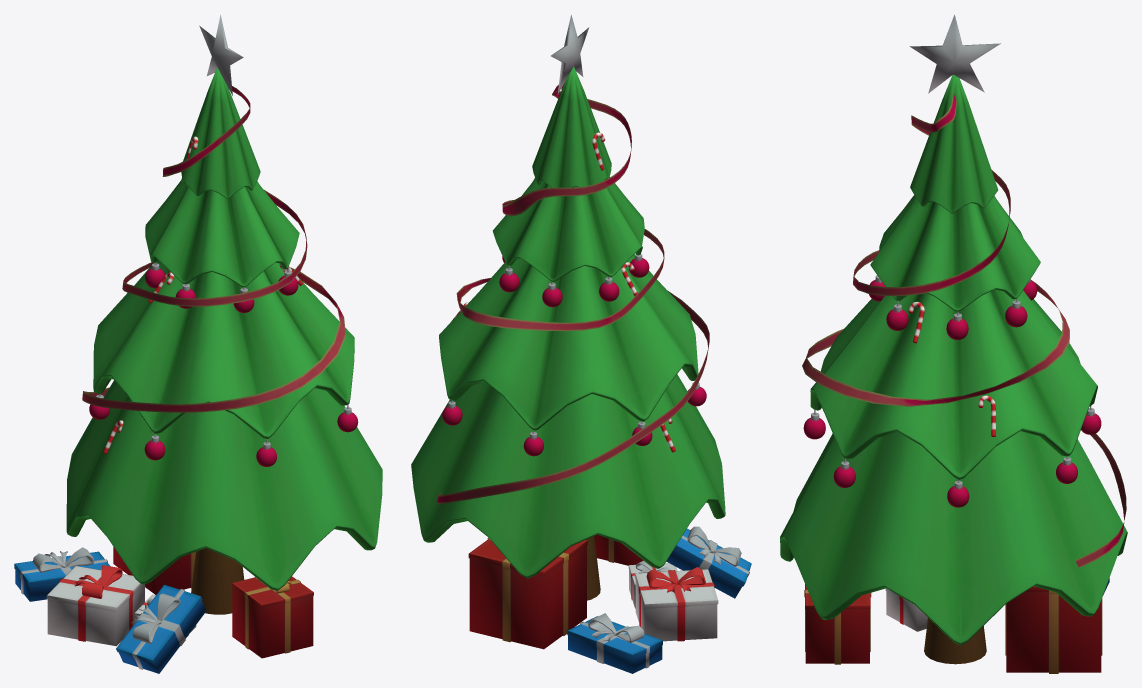
Rendered from tree.gltf.
The picture shows the model from 3 angles, left to right: view 1: azimuth 30°, elevation 25°; view 2: azimuth 150°, elevation 25°; view 3: azimuth 270°, elevation 25°; orthographic projection. The views are drawn at different scales.
Parts seen in each view (by area): view 1: christmas_tree; view 2: christmas_tree; view 3: christmas_tree.
Part boxes in pixels (x1,y1,x2,y2): christmas_tree: (14,14,382,673); christmas_tree: (411,15,751,673); christmas_tree: (780,14,1127,673).
Size of the model in its own units: 0.8024 by 1.49 by 0.7329.
1 material, 1 textured.
